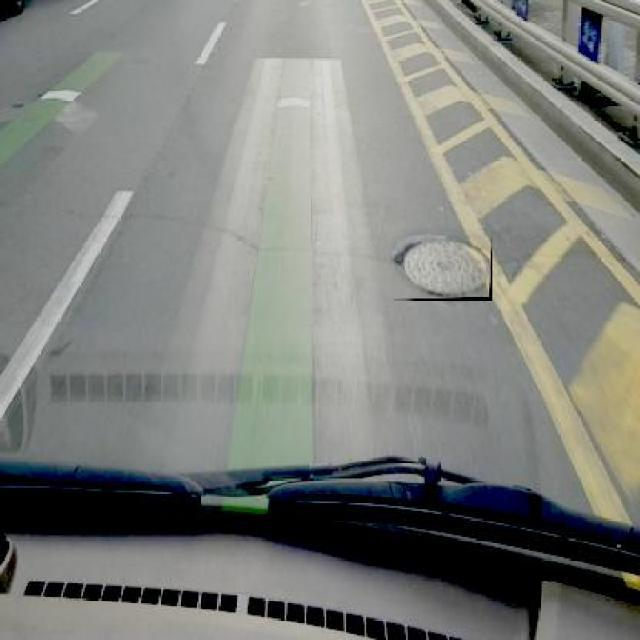Manhole: (390, 236, 492, 301)
Pothole: (41, 338, 80, 361), (7, 102, 26, 108)
